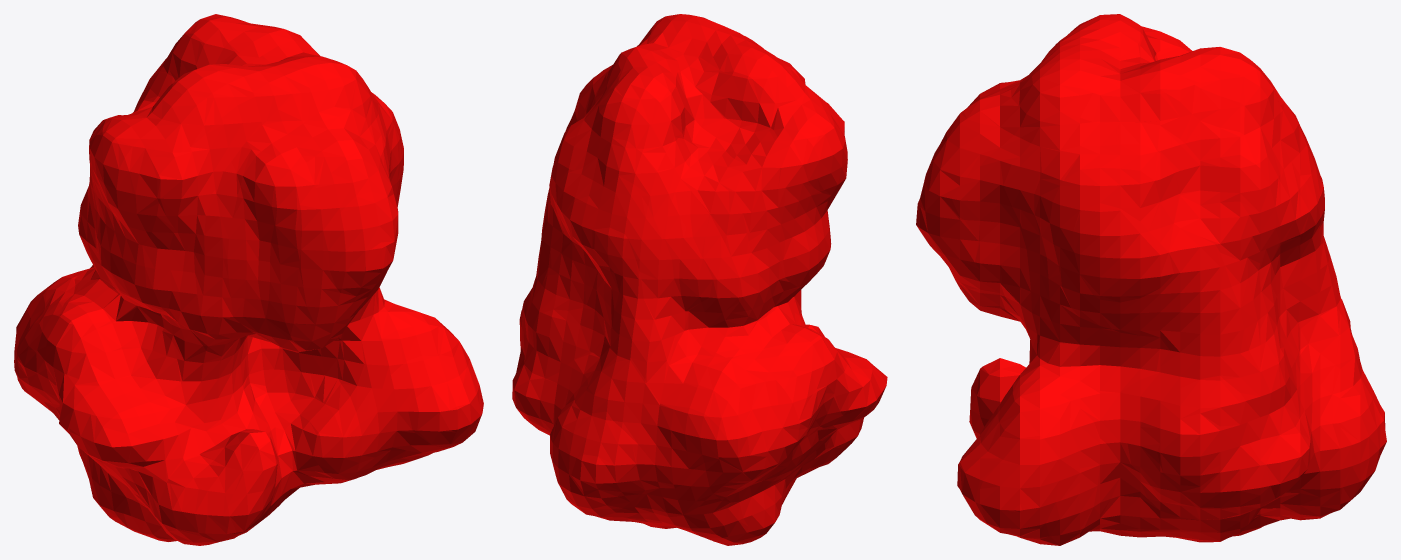
File: wbbK_coarse.dae
3 renders of one model, left to right at view 1: azimuth 30°, elevation 25°; view 2: azimuth 150°, elevation 25°; view 3: azimuth 270°, elevation 25°, orthographic. The views are drawn at different scales.
Visible parts, largest first — view 1: wbbK; view 2: wbbK; view 3: wbbK.
Boxes of the visible parts, box(x1,y1,x2,y2) form: wbbK: box(14, 14, 483, 545); wbbK: box(512, 14, 887, 545); wbbK: box(916, 14, 1386, 545).
Bounding box in the file's own units: 53.46 × 68.74 × 56.34.
